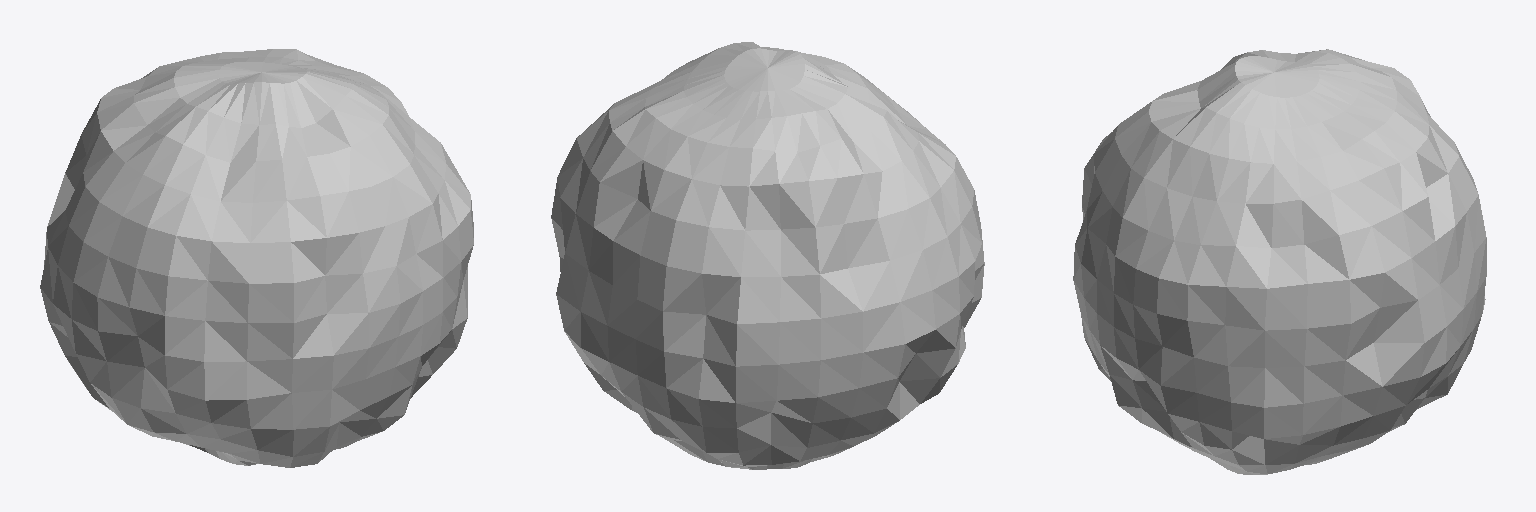
Rendered from asteroid.obj.
3 renders of one model, left to right at view 1: azimuth 30°, elevation 25°; view 2: azimuth 150°, elevation 25°; view 3: azimuth 270°, elevation 25°, orthographic.
Visible parts, largest first — view 1: Sphere; view 2: Sphere; view 3: Sphere.
Boxes of the visible parts, x1,y1,x2,y2 form: Sphere: [40, 49, 473, 467]; Sphere: [551, 42, 984, 469]; Sphere: [1073, 49, 1486, 474].
Bounding box in the file's own units: 2.4 × 2.32 × 2.28.